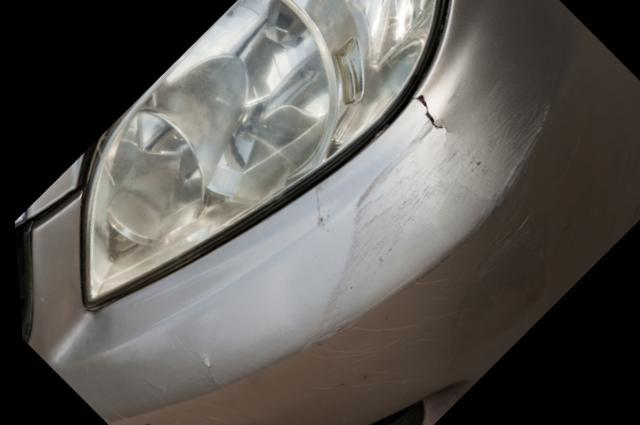crack: (411, 93, 457, 132)
scratch: (295, 61, 554, 377)
